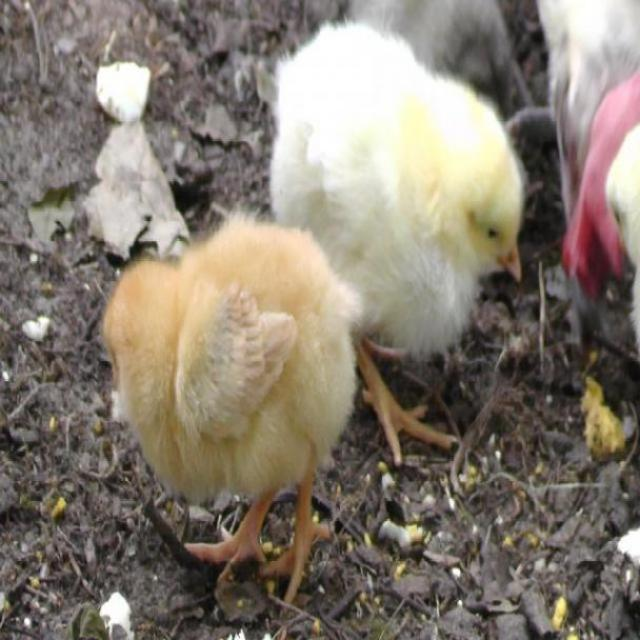Chicken: (266, 15, 528, 469), (105, 197, 360, 617)
